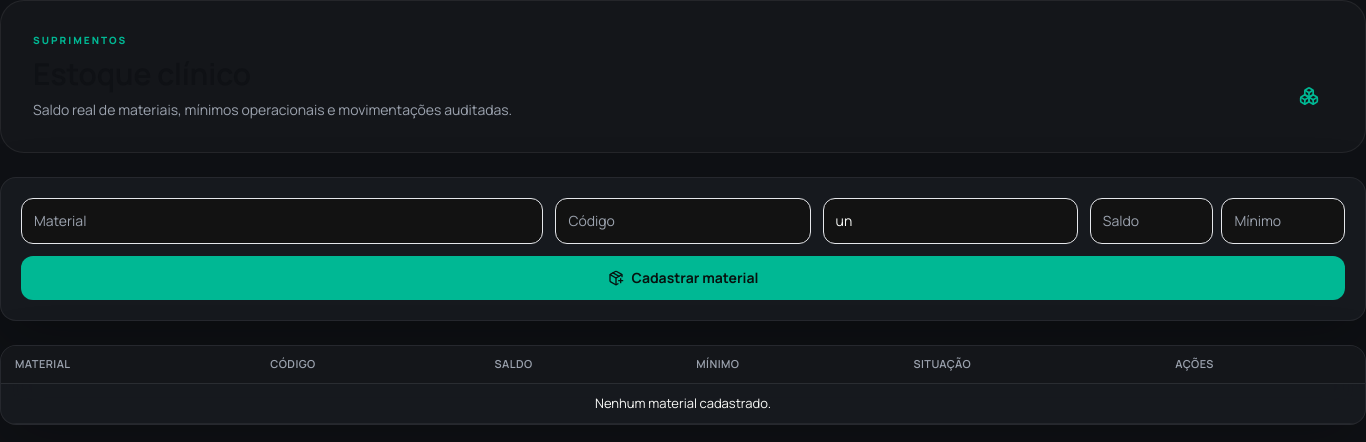
Scenario: formulários operacionais › limpa estoque após persistir sem exibir falso erro
Step 1. Type "Luvas" into the field with placeholder "Material" → (282, 221), box [21,198,543,244]
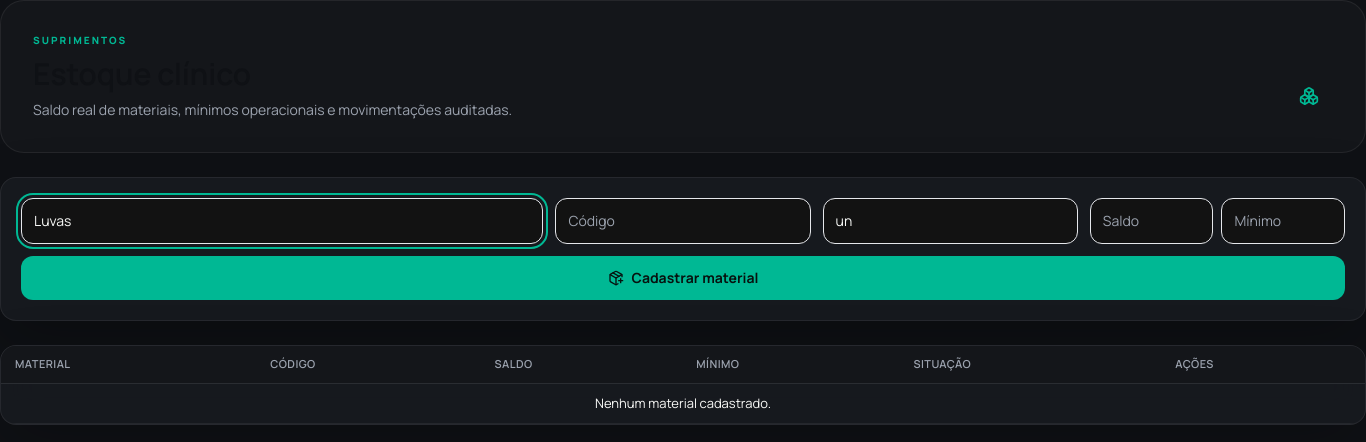
Step 2. Click the button "Cadastrar material" → (683, 278), box [21,256,1345,300]
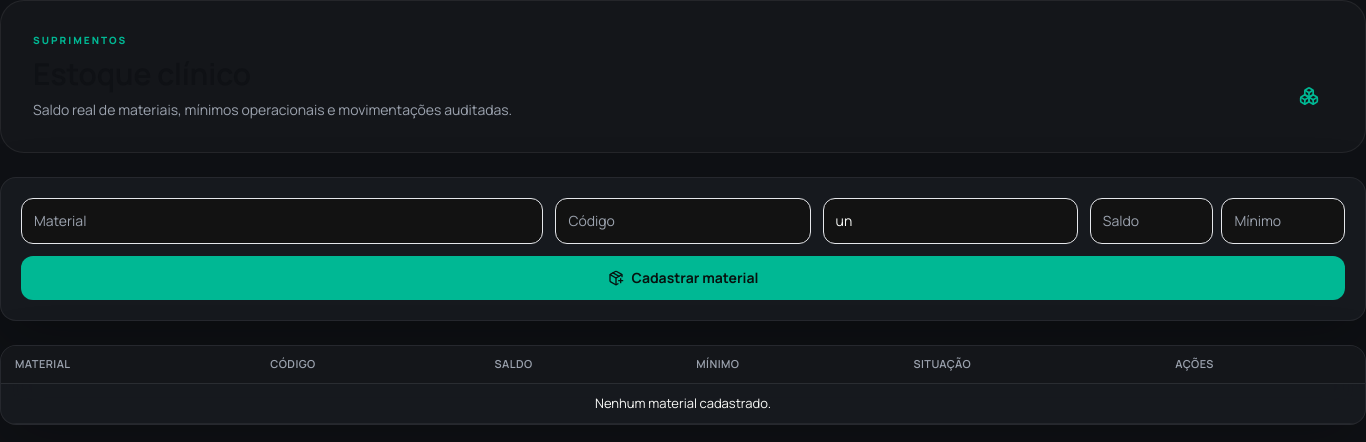
Check: the field with placeholder "Material" is empty, box [21,198,543,244]
